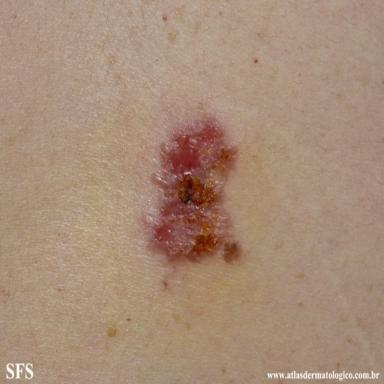Hailey-Hailey-Disease: (139, 112, 244, 265)
